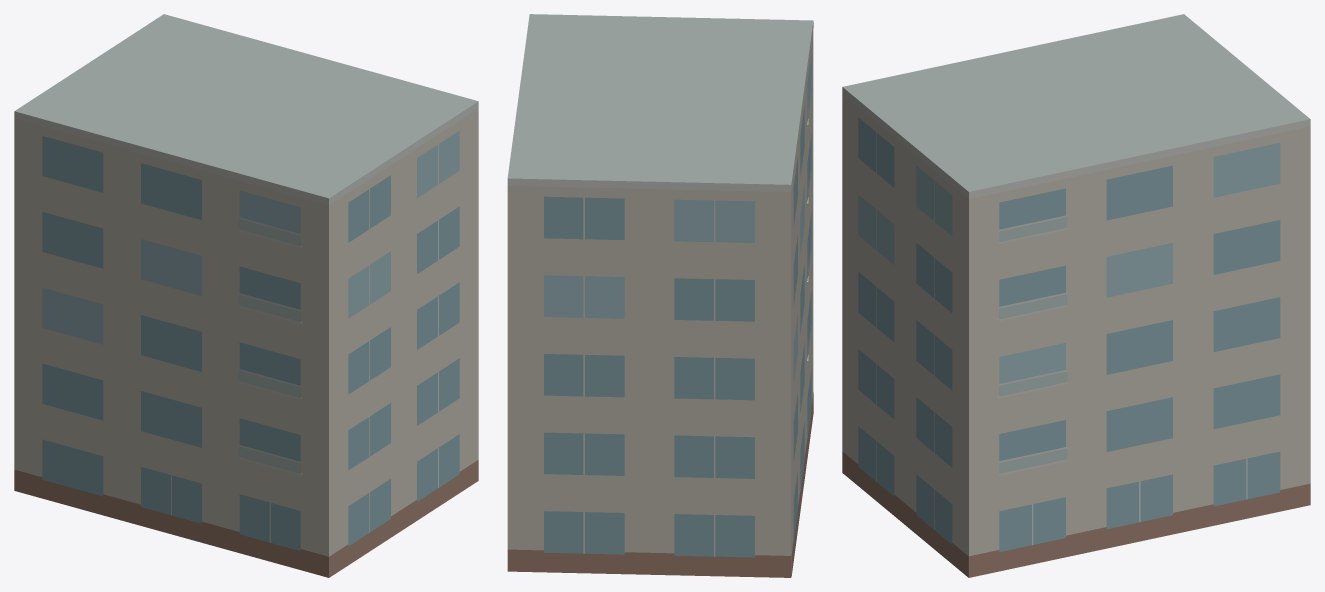
Rendered from survey-upis-32748080.glb.
3 views of the same model, side by side, from view 1: azimuth 30°, elevation 25°; view 2: azimuth 150°, elevation 25°; view 3: azimuth 270°, elevation 25° (orthographic). The views are drawn at different scales.
Visible parts, largest first — view 1: survey-upis-32748080.tmp; view 2: survey-upis-32748080.tmp; view 3: survey-upis-32748080.tmp.
Part boxes in pixels (box(x1,y1,x2,y2)): survey-upis-32748080.tmp: box(14, 14, 478, 577); survey-upis-32748080.tmp: box(507, 14, 813, 577); survey-upis-32748080.tmp: box(842, 14, 1310, 577).
Bounding box in the file's own units: 13.06 × 13.2 × 14.52.
